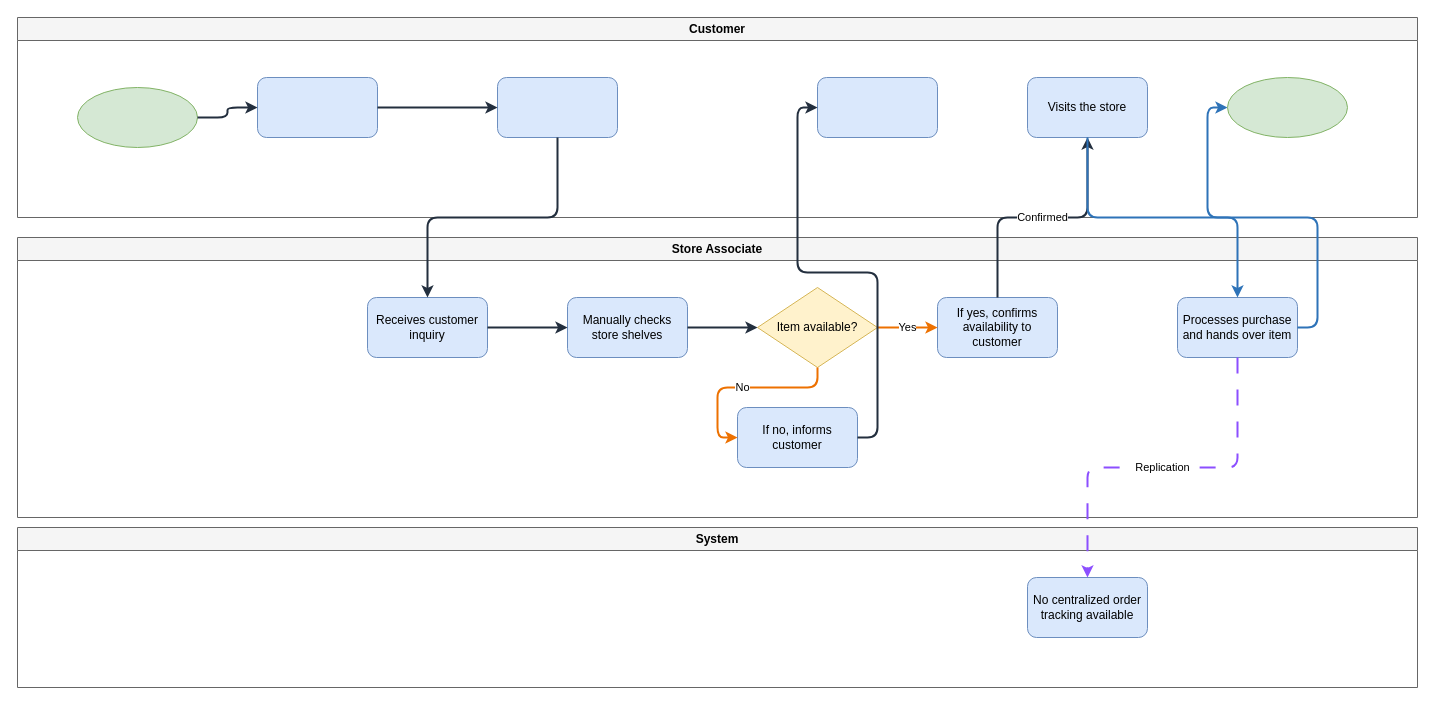
Image size: 1435x705. Some labels were removed from this diagram. The centre of each missing label's shape, as x and y in pixels:
Calls store to check availability: [557,107]
Completes purchase: [1287,107]
Customer cancels or chooses another product: [877,107]
Customer wants to purchase item for pickup: [317,107]
Start: [137,117]
